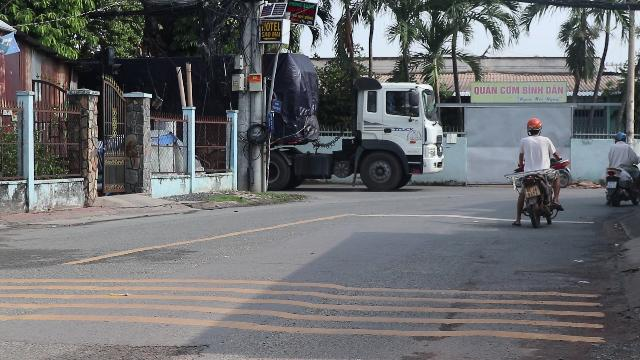helmet: (525, 117, 543, 135)
licenseplate: (524, 186, 540, 198)
motorcyclist: (508, 117, 564, 227)
